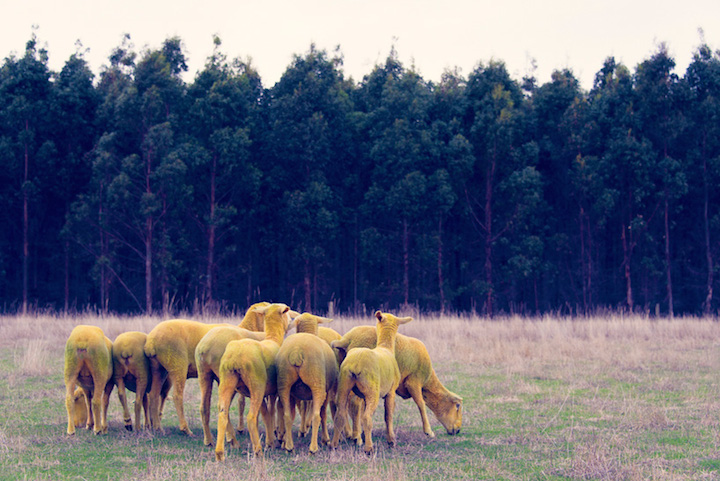sheep: (148, 299, 274, 432), (337, 321, 466, 437), (214, 300, 297, 459), (330, 307, 410, 453), (282, 310, 340, 451), (113, 324, 166, 427), (65, 321, 113, 434)
